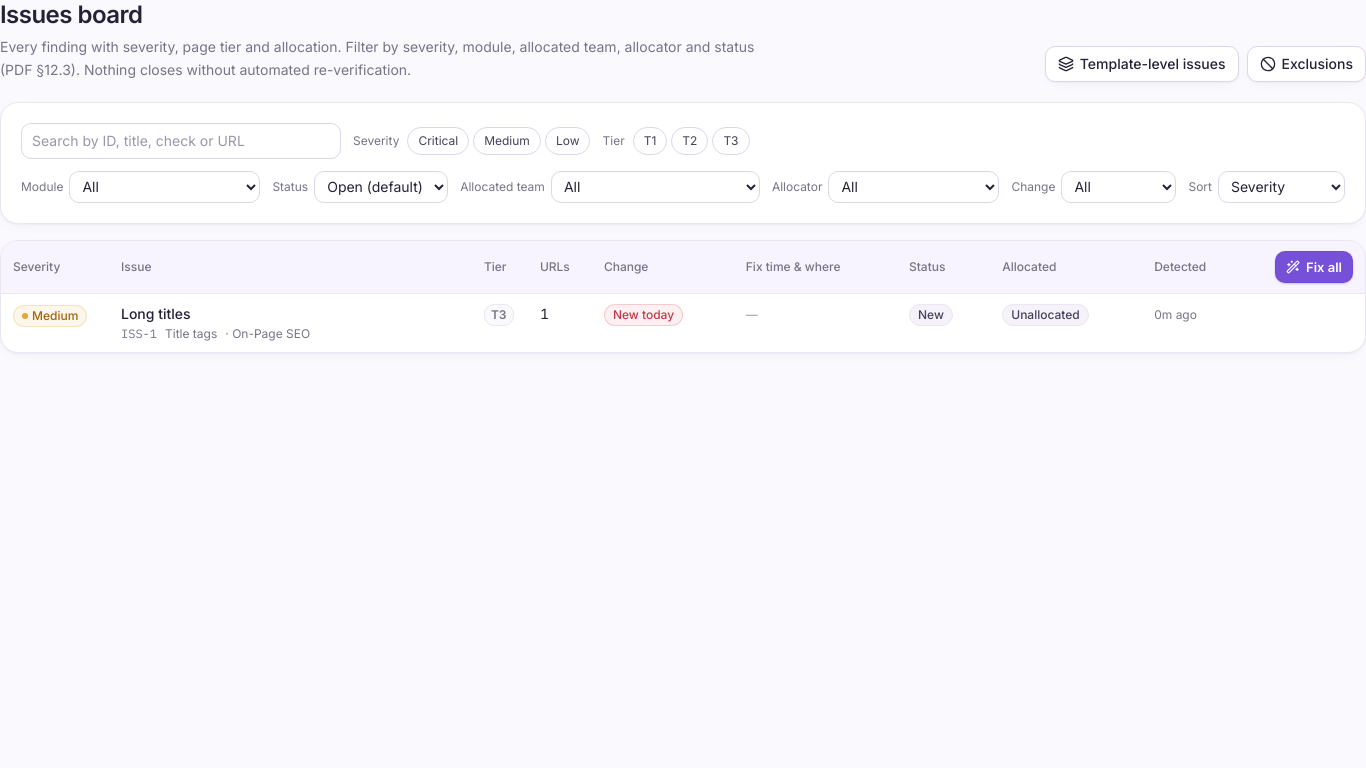
Test: Issues board › has no SLA column and offers Fix all beside Detected
Expected: the text "Long titles" is shown, [121,304,191,324]
Click the button "Fix all": (1314, 266) [1275,250,1353,282]
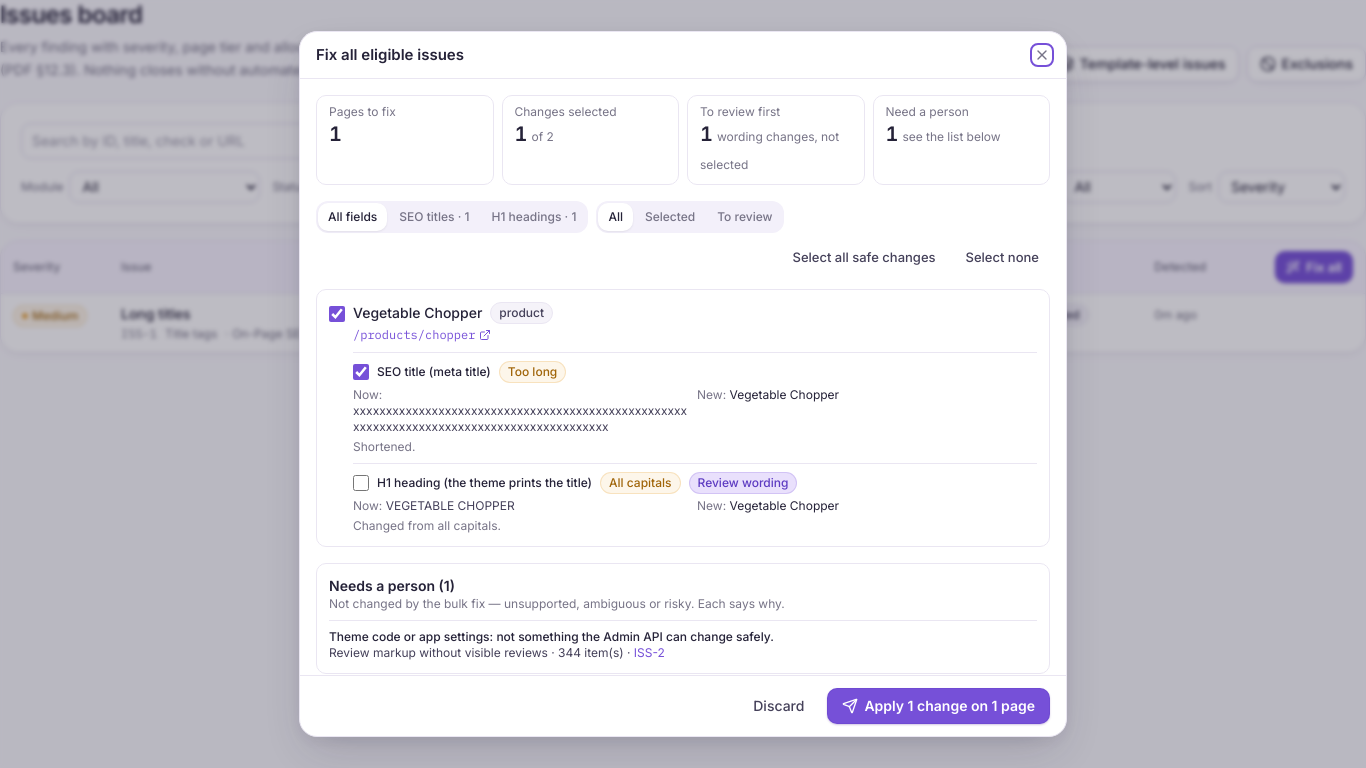
Expected: the heading "Fix all eligible issues" is shown, [316,44,464,66]
